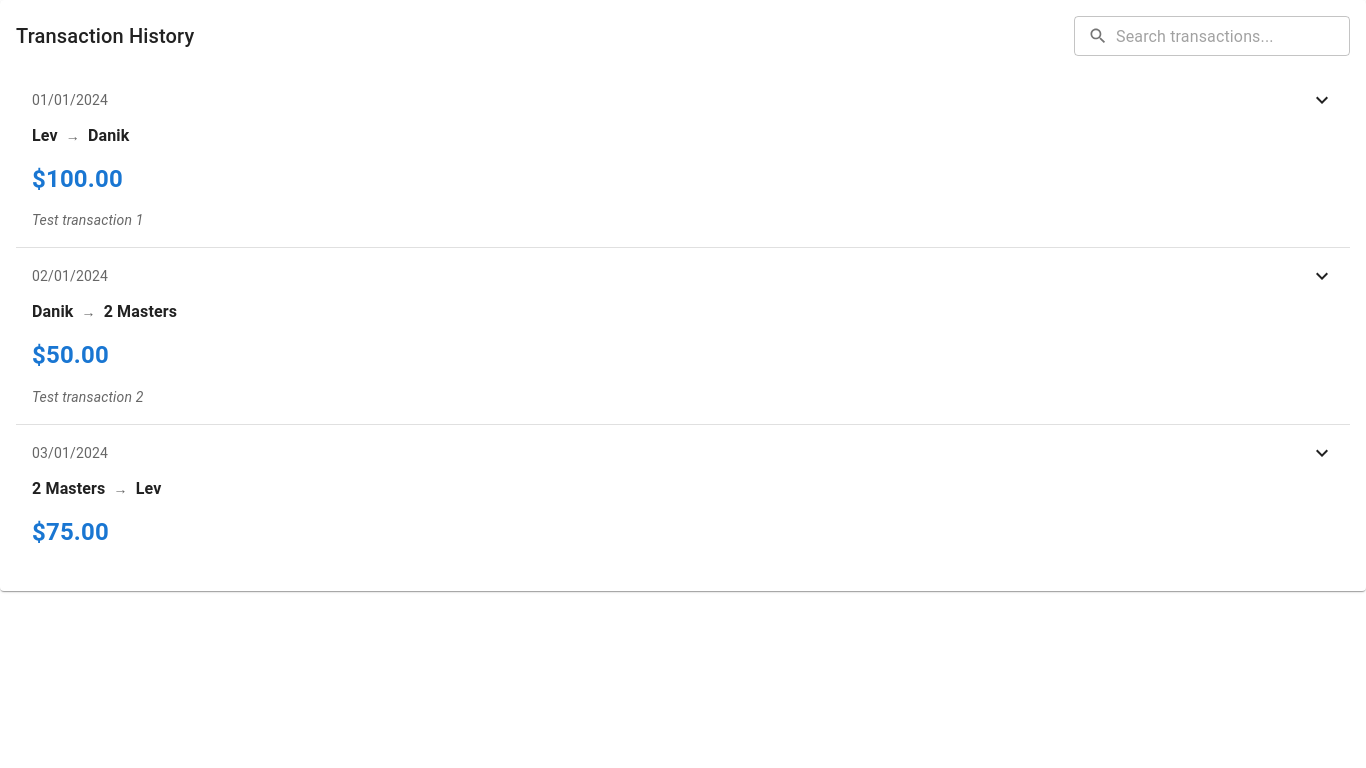
Test: TransactionHistory › Search Functionality › should filter transactions by amount (numeric search)
Type "50" into the field with placeholder "Search transactions...". click: (1233, 36)
box: [1116,16,1350,56]
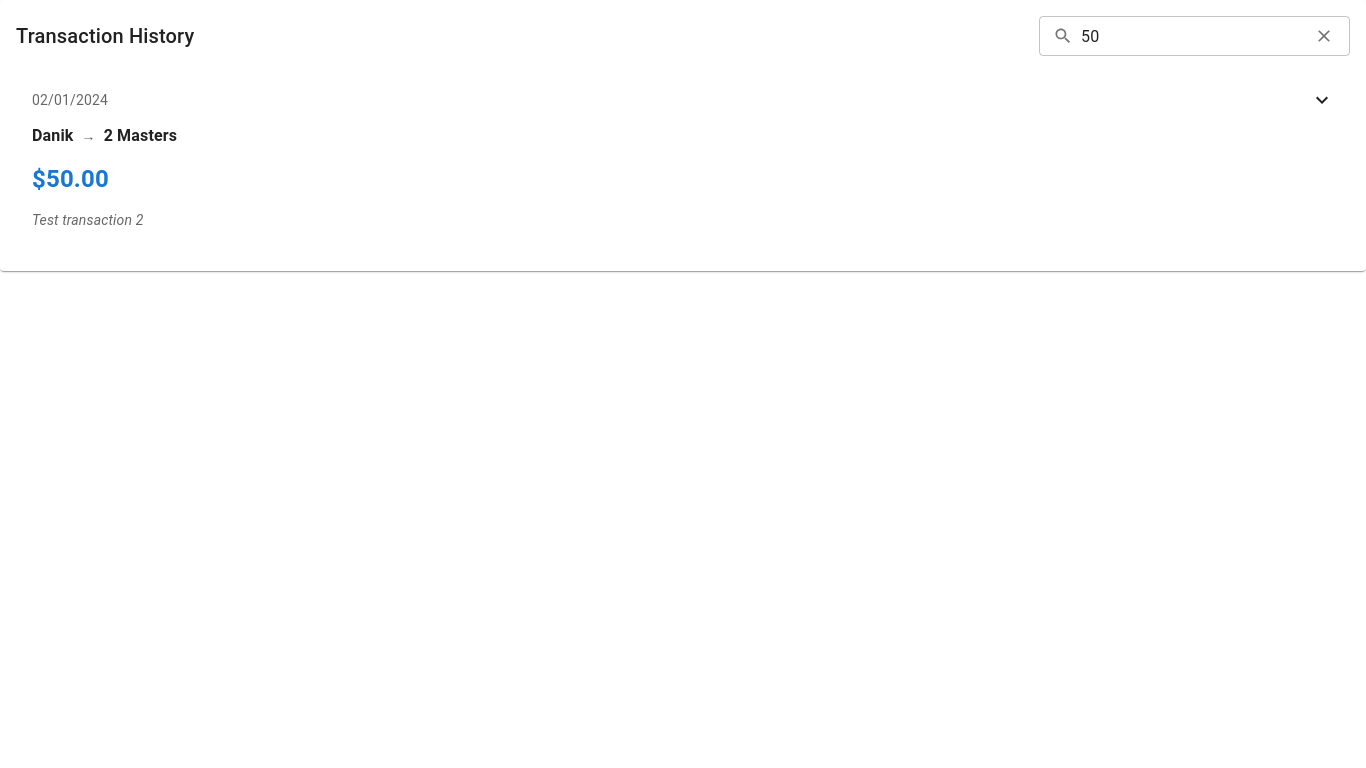
Expected: the heading "$50.00" is shown, [32,165,109,193]
Result: the heading "$100.00" is gone
Result: the heading "$75.00" is gone
